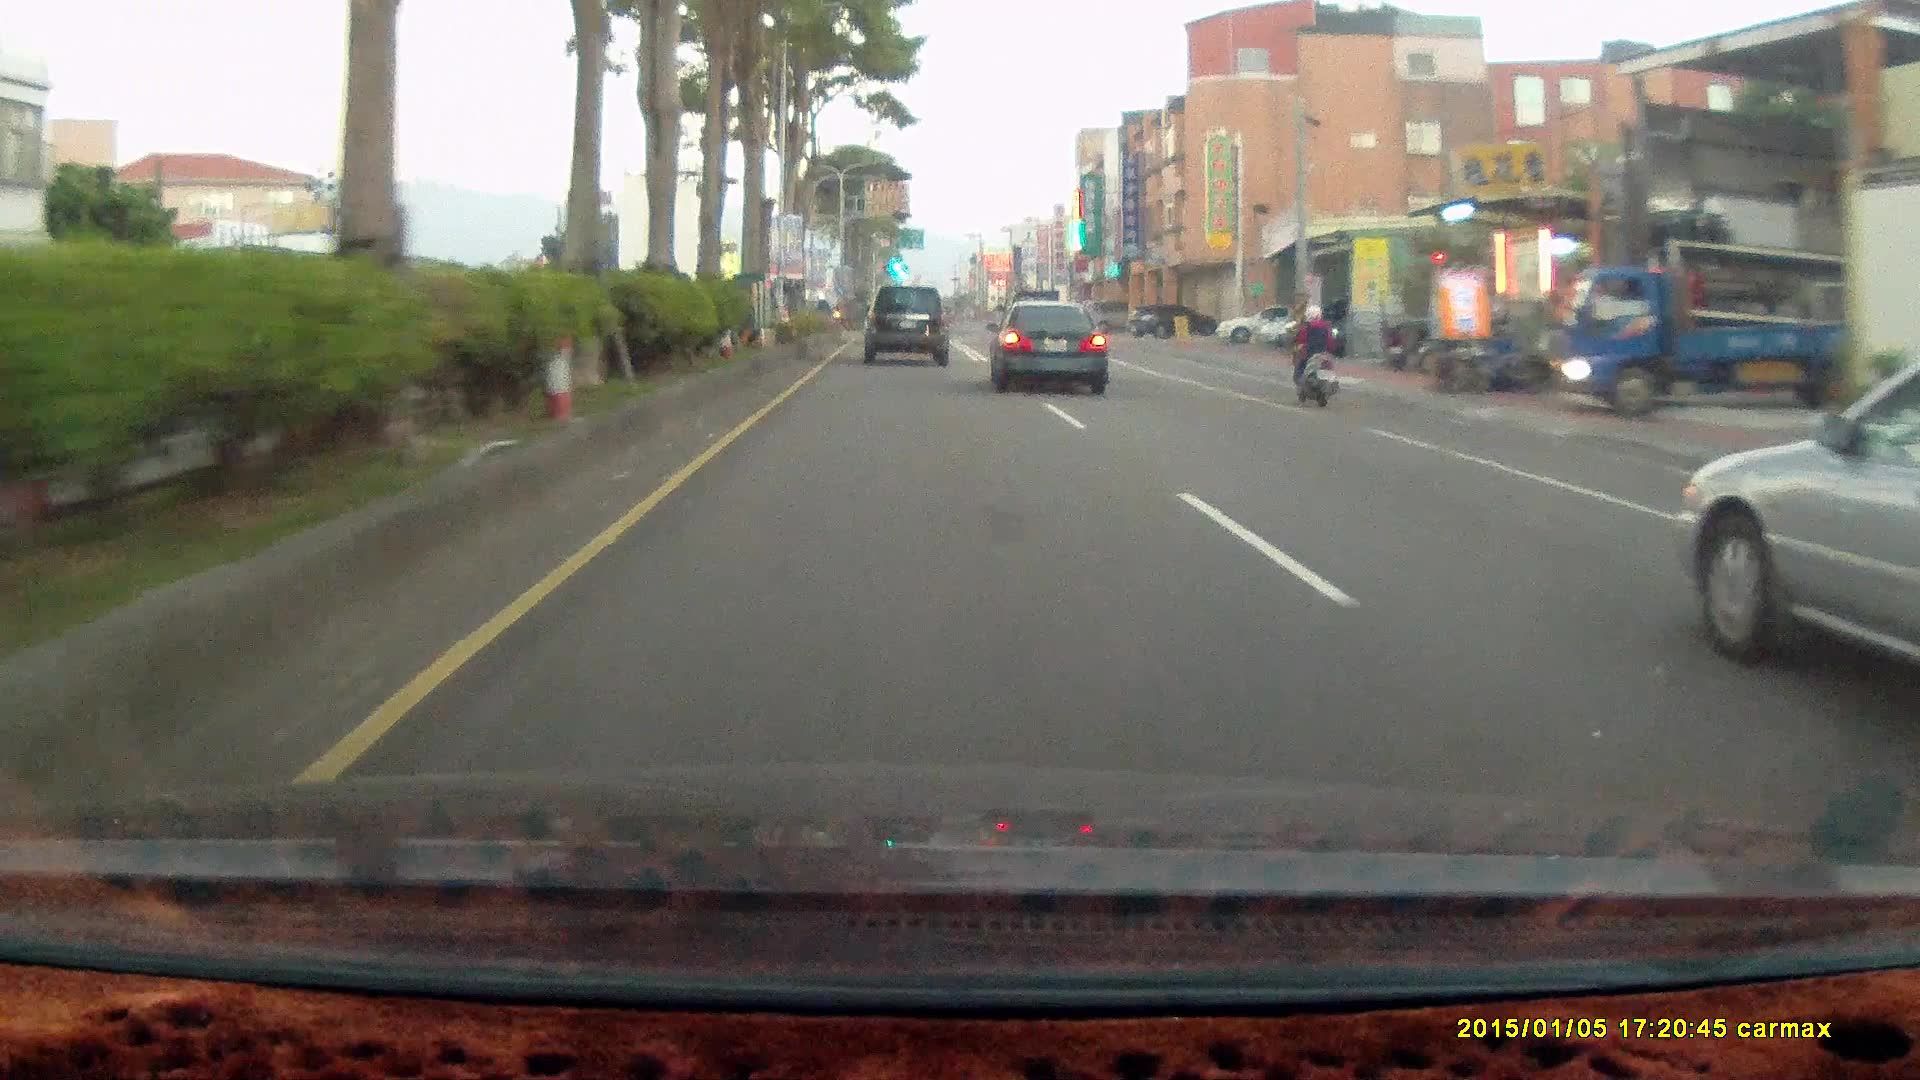rider: (1276, 292, 1354, 417), (1281, 300, 1340, 403)
vehicle: (1673, 357, 1920, 693), (1681, 356, 1920, 693), (1544, 235, 1858, 419), (1543, 262, 1885, 418), (991, 297, 1114, 395), (985, 298, 1110, 393), (862, 282, 949, 365), (870, 283, 953, 368), (1307, 297, 1418, 353), (1217, 302, 1323, 343), (1125, 303, 1217, 338), (1082, 296, 1148, 332)
